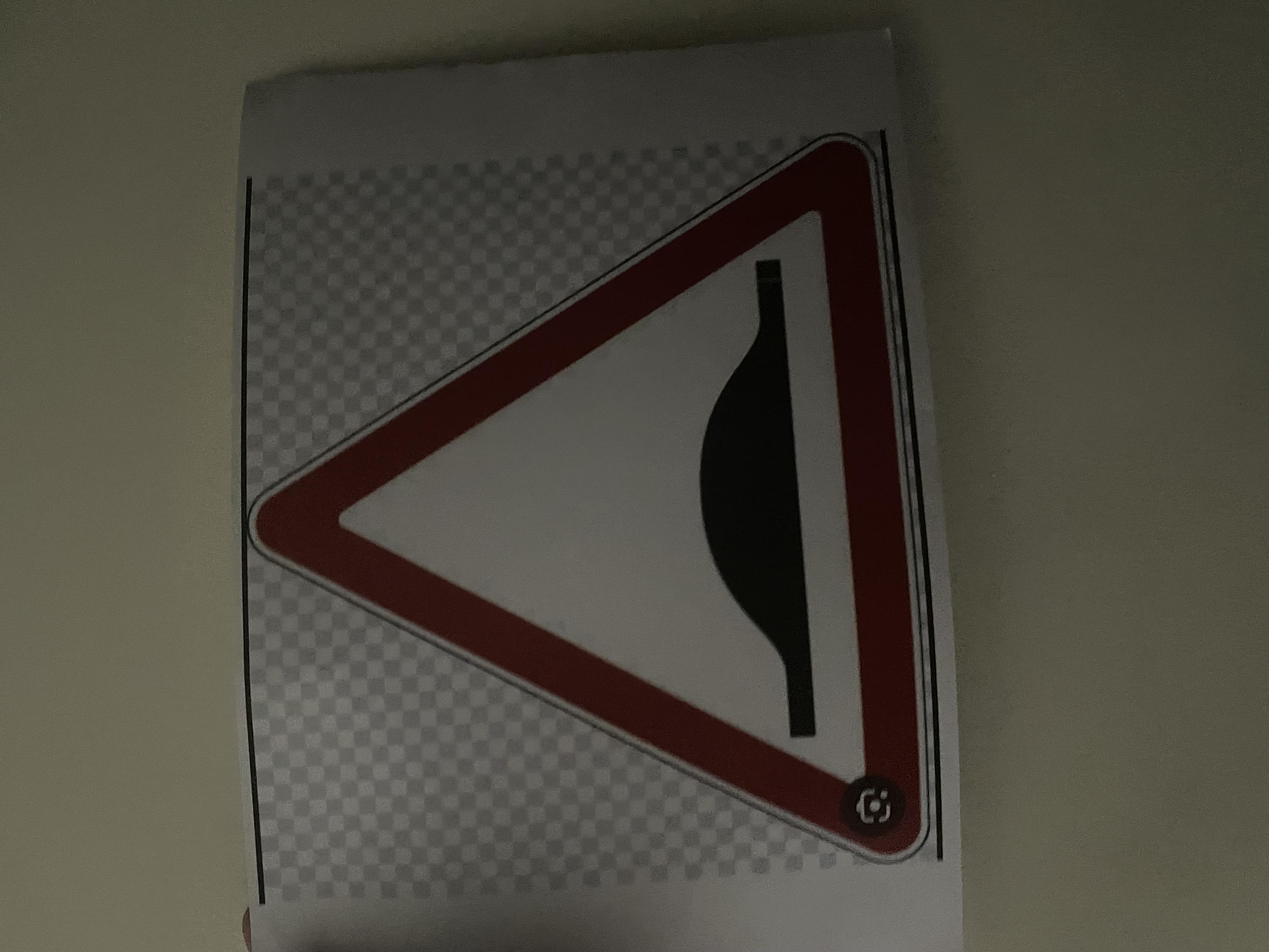Hump: (130, 187, 1117, 691)
